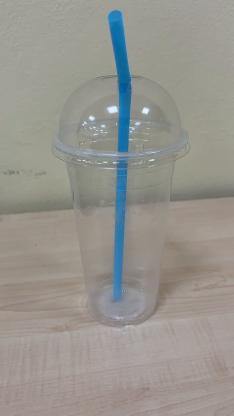Plastic Cup: (53, 75, 195, 329)
